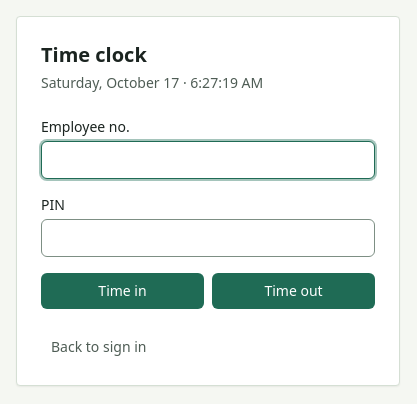
KioskPage › clocks out without mentioning lateness
In the field labelled "Employee no.": (208, 160) [41,141,375,179], type "EMP-0001"
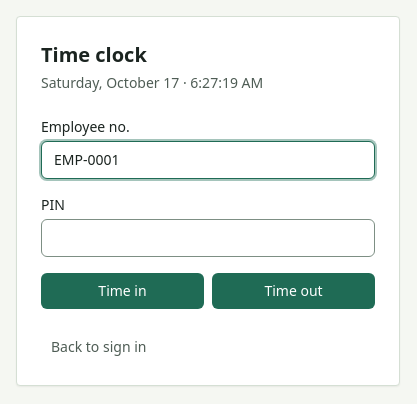
In the password field labelled "PIN": (208, 238) [41,219,375,257], type "1234"
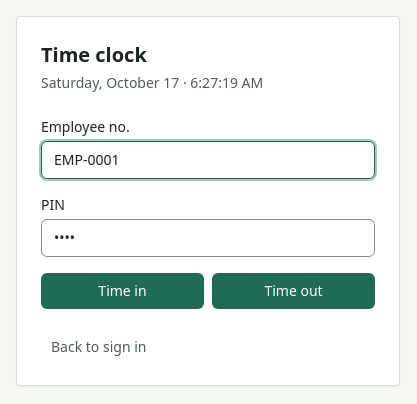
Click the button "Time out": (294, 291) [212,273,375,309]
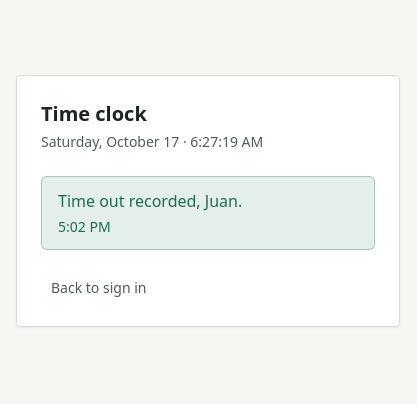
Now the message shows "Time out recorded, Juan.", box [41,176,375,250]
